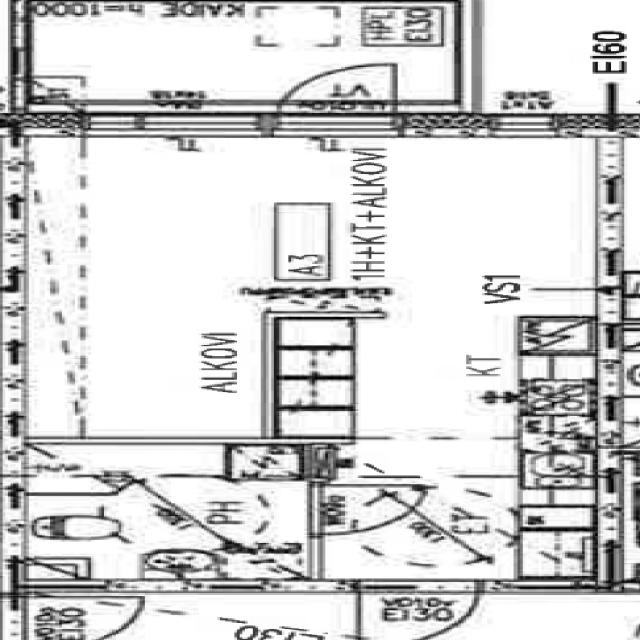door: (276, 57, 394, 136), (359, 578, 476, 640), (308, 485, 425, 534)
